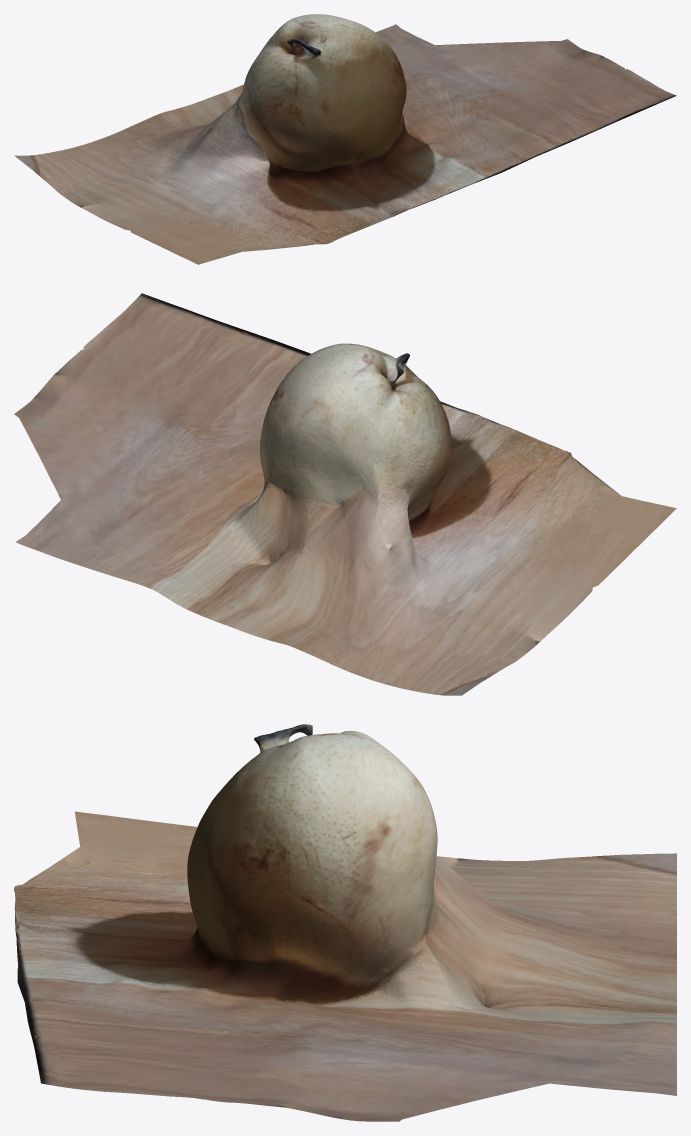
3 views of the same model, one above another, from view 1: azimuth 30°, elevation 25°; view 2: azimuth 150°, elevation 25°; view 3: azimuth 270°, elevation 25° (orthographic). The views are drawn at different scales.
Size of the model in its own units: 1.86 by 0.6554 by 1.39.
1 material, 1 textured.
